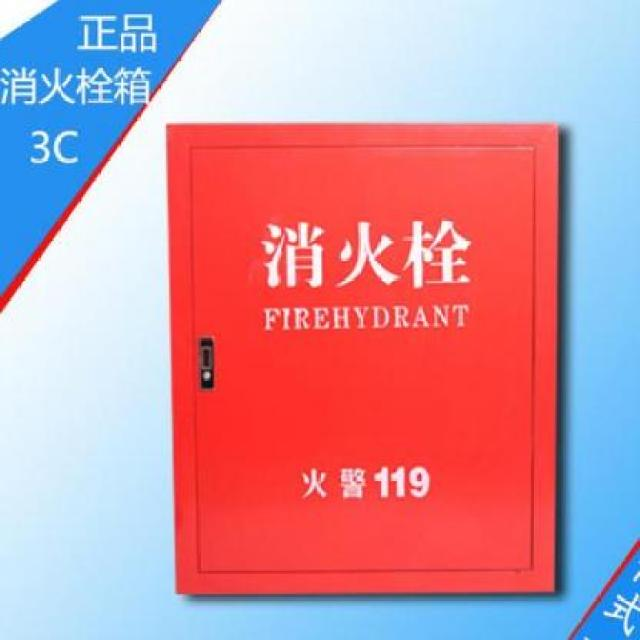firehydrant: (163, 119, 559, 598)
